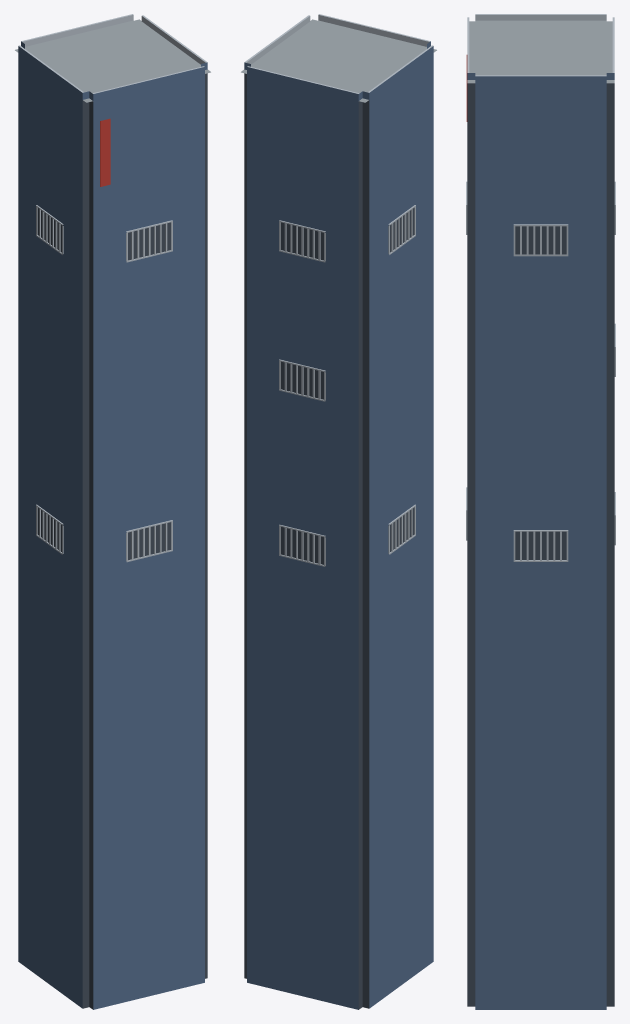
Rendered from shenzhen-upperhills-t1.detail.glb.
3 views of the same model, side by side, from view 1: azimuth 30°, elevation 25°; view 2: azimuth 150°, elevation 25°; view 3: azimuth 270°, elevation 25° (orthographic).
Parts seen in each view (by area): view 1: Shum Yip Upperhills Tower 1; view 2: Shum Yip Upperhills Tower 1; view 3: Shum Yip Upperhills Tower 1.
Part boxes in pixels (bbox=[...]): Shum Yip Upperhills Tower 1: bbox=[15, 14, 210, 1009]; Shum Yip Upperhills Tower 1: bbox=[241, 14, 436, 1009]; Shum Yip Upperhills Tower 1: bbox=[466, 14, 615, 1009].
Bounding box in the file's own units: 56.5 × 388 × 56.5.
